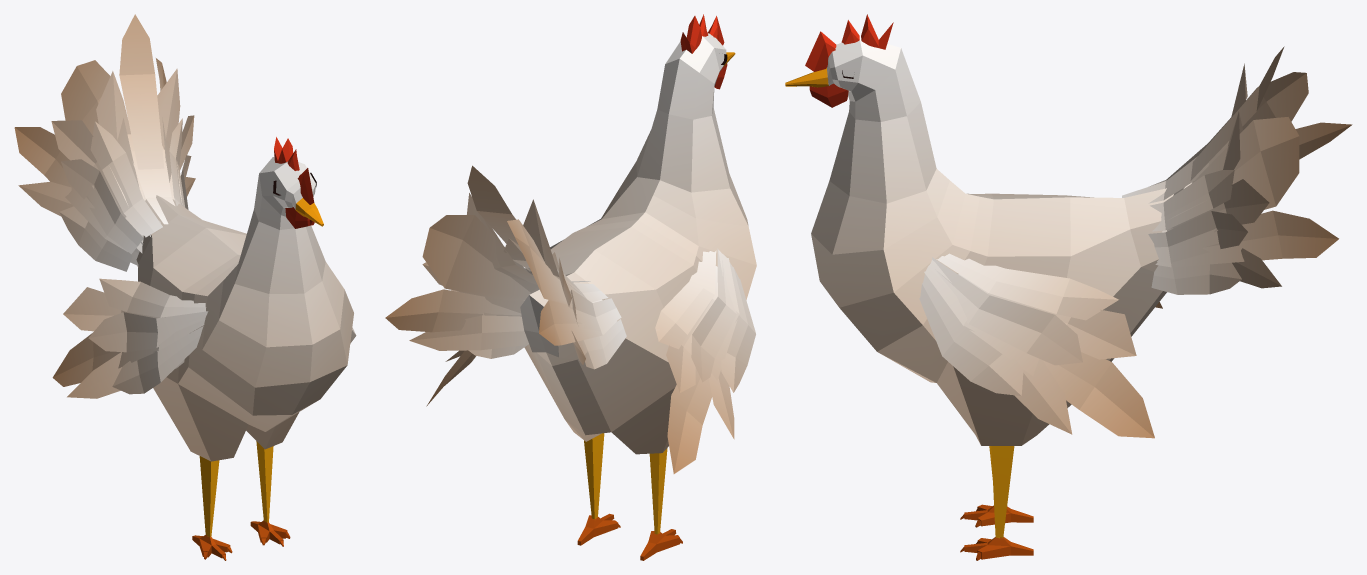
Rendered from Chicken.fbx.
3 renders of one model, left to right at view 1: azimuth 30°, elevation 25°; view 2: azimuth 150°, elevation 25°; view 3: azimuth 270°, elevation 25°, orthographic. The views are drawn at different scales.
Visible parts, largest first — view 1: Chicken_LP; view 2: Chicken_LP; view 3: Chicken_LP.
Boxes of the visible parts, x1,y1,x2,y2 form: Chicken_LP: (14,14,356,560); Chicken_LP: (385,14,756,560); Chicken_LP: (785,14,1352,560).
Size of the model in its own units: 30.6 by 48.09 by 47.53.
